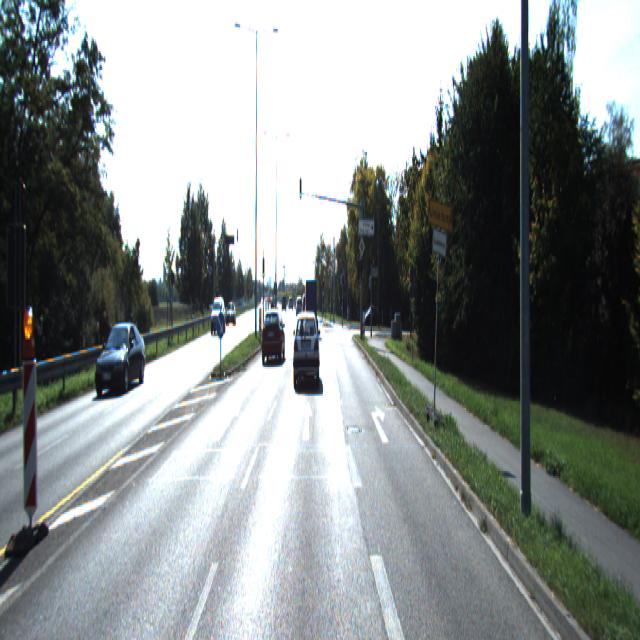Car: (95, 325, 146, 397), (294, 312, 320, 383), (261, 310, 286, 366), (210, 298, 226, 334)
DontCare: (284, 282, 302, 314), (363, 302, 380, 324), (223, 301, 237, 320)
Van: (304, 277, 318, 334)
